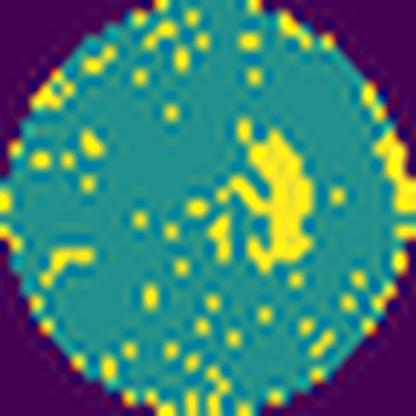Loc: (219, 112, 318, 276)
